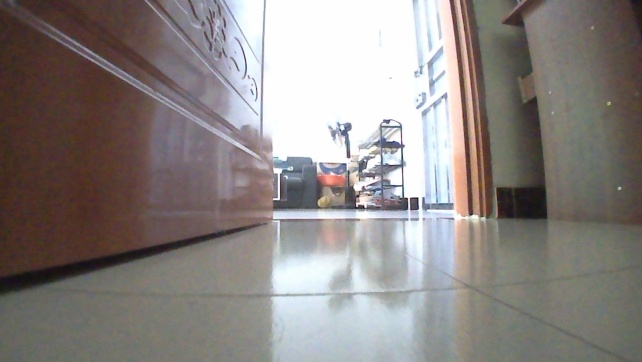door_anno: (0, 0, 277, 284), (406, 0, 460, 212)
sofa1: (271, 155, 319, 208)
